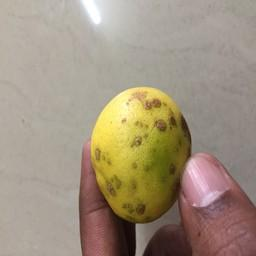Bad_lime: (88, 78, 187, 231)
